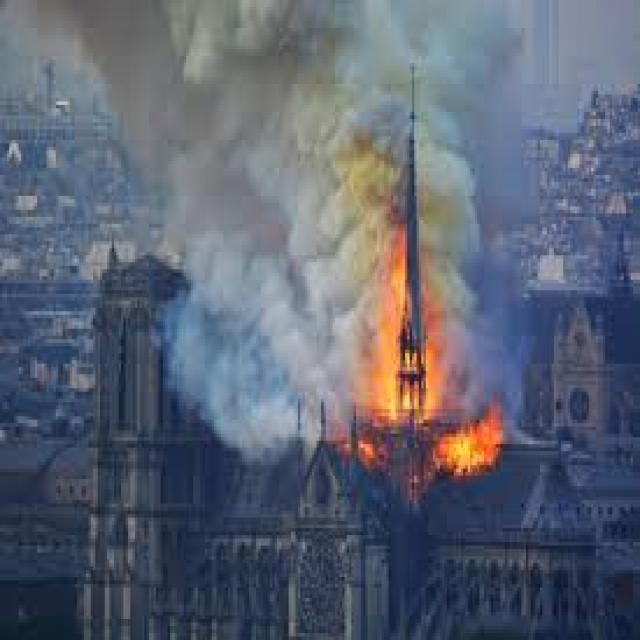Fire: (352, 298, 507, 490)
Smoke: (90, 0, 351, 464), (352, 0, 538, 295)
